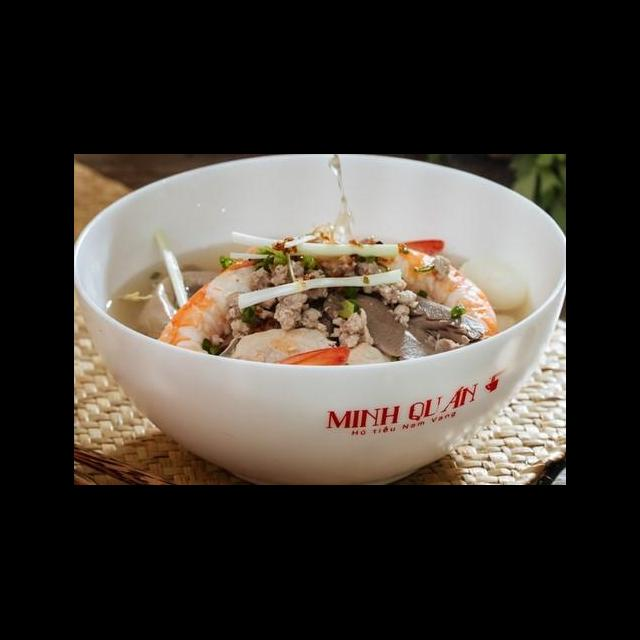thit bam: (220, 254, 375, 352), (318, 250, 424, 332)
thit heo: (229, 326, 400, 376)
tom: (152, 245, 353, 378), (357, 235, 503, 348)
trung: (456, 252, 531, 314)
